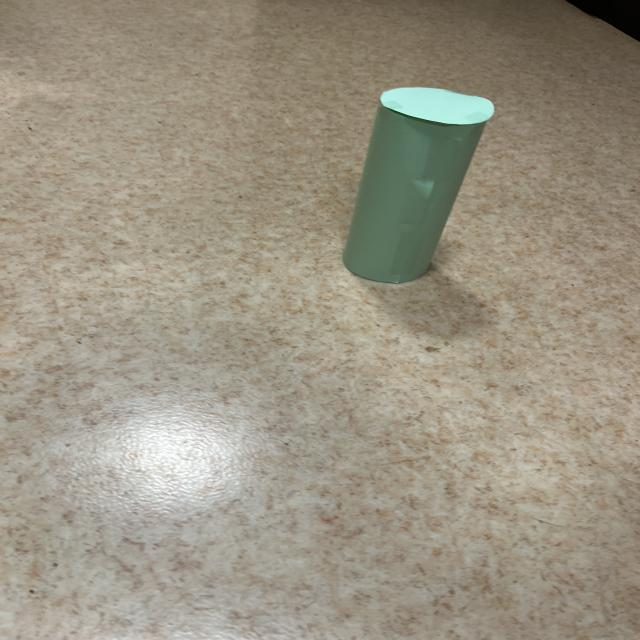meta: (343, 87, 494, 283)
